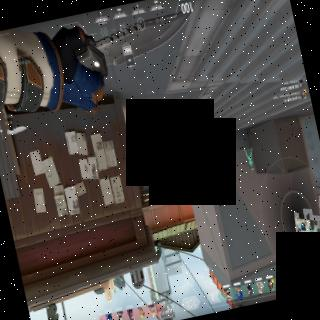ENEMY-HEAD: (158, 164, 160, 167)
